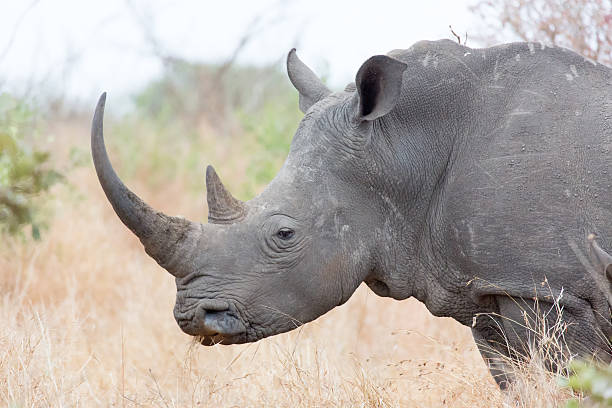rhino: (50, 33, 437, 378)
